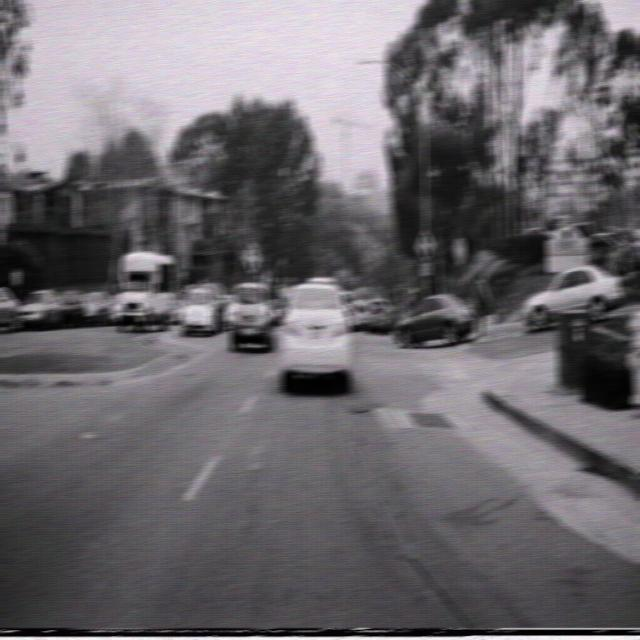stop_sign: (453, 237, 466, 266)
